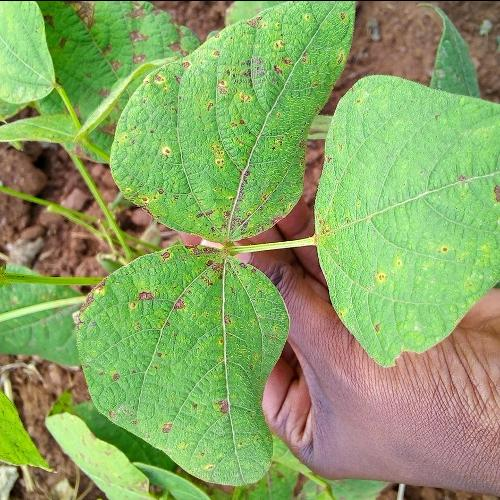embun tepung: (143, 42, 319, 234), (349, 123, 493, 331), (124, 284, 277, 464)
